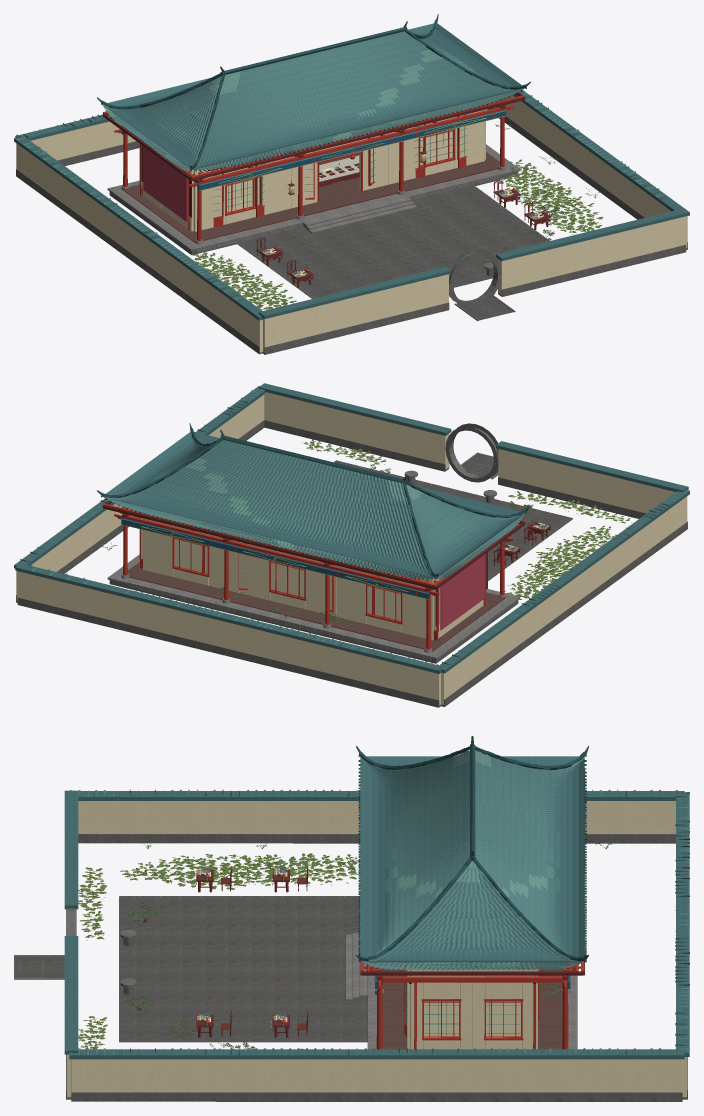
File: reference-public_models_places-low_qiushuangzhai.glb
3 renders of one model, top to bottom at view 1: azimuth 30°, elevation 25°; view 2: azimuth 150°, elevation 25°; view 3: azimuth 270°, elevation 25°, orthographic. The views are drawn at different scales.
Parts seen in each view (by area): view 1: r15_qiushuangzhai_tile, r15_qiushuangzhai_plaster, r15_qiushuangzhai_roof, Mobile_qiushuangzhai_paving, r15_qiushuangzhai_stone, r15_qiushuangzhai_plaster.002, r15_qiushuangzhai_wood, r15_qiushuangzhai_cutstone, Mobile_qiushuangzhai_floorwood, Mobile_qiushuangzhai_botanical_bamboo, r15_qiushuangzhai_darkwood, r15_qiushuangzhai_tiledark (+11 smaller); view 2: r15_qiushuangzhai_plaster, r15_qiushuangzhai_tile, r15_qiushuangzhai_roof, r15_qiushuangzhai_stone, r15_qiushuangzhai_plaster.002, r15_qiushuangzhai_wood, r15_qiushuangzhai_cutstone, Mobile_qiushuangzhai_floorwood, Mobile_qiushuangzhai_botanical_bamboo, Mobile_qiushuangzhai_paving, r15_qiushuangzhai_tiledark, r15_qiushuangzhai_darkwood (+7 smaller); view 3: Mobile_qiushuangzhai_paving, r15_qiushuangzhai_roof, r15_qiushuangzhai_tile, r15_qiushuangzhai_plaster, r15_qiushuangzhai_stone, r15_qiushuangzhai_plaster.002, Mobile_qiushuangzhai_botanical_bamboo, r15_qiushuangzhai_wood, r15_qiushuangzhai_tiledark, Mobile_qiushuangzhai_floorwood, r15_qiushuangzhai_cutstone, Mobile_qiushuangzhai_courtbase (+6 smaller).
Boxes of the visible parts, x1,y1,x2,y2 form: r15_qiushuangzhai_tile: (16,28,681,316); r15_qiushuangzhai_plaster: (16,95,687,352); r15_qiushuangzhai_roof: (14,23,689,320); Mobile_qiushuangzhai_paving: (237,185,548,320); r15_qiushuangzhai_stone: (16,107,687,354); r15_qiushuangzhai_plaster.002: (142,104,485,231); r15_qiushuangzhai_wood: (103,95,545,271); r15_qiushuangzhai_cutstone: (107,144,520,252); Mobile_qiushuangzhai_floorwood: (122,152,499,241); Mobile_qiushuangzhai_botanical_bamboo: (193,159,603,310); r15_qiushuangzhai_darkwood: (102,92,549,283); r15_qiushuangzhai_tiledark: (97,14,530,171); r15_qiushuangzhai_plaster: (16,392,687,705); r15_qiushuangzhai_tile: (20,386,689,670); r15_qiushuangzhai_roof: (14,383,689,673); r15_qiushuangzhai_stone: (16,420,687,707); r15_qiushuangzhai_plaster.002: (143,514,483,640); r15_qiushuangzhai_wood: (103,503,533,649); r15_qiushuangzhai_cutstone: (107,554,520,660); Mobile_qiushuangzhai_floorwood: (128,562,505,650); Mobile_qiushuangzhai_botanical_bamboo: (304,439,630,599); Mobile_qiushuangzhai_paving: (334,453,572,579); r15_qiushuangzhai_tiledark: (97,423,530,579); r15_qiushuangzhai_darkwood: (102,500,550,651); Mobile_qiushuangzhai_paving: (14,896,367,1041); r15_qiushuangzhai_roof: (64,756,689,1059); r15_qiushuangzhai_tile: (70,753,689,1054); r15_qiushuangzhai_plaster: (66,801,687,1097); r15_qiushuangzhai_stone: (14,834,687,1101); r15_qiushuangzhai_plaster.002: (407,962,537,1049); Mobile_qiushuangzhai_botanical_bamboo: (78,853,359,1049); r15_qiushuangzhai_wood: (205,873,584,1049); r15_qiushuangzhai_tiledark: (356,736,588,962); Mobile_qiushuangzhai_floorwood: (382,964,562,1049); r15_qiushuangzhai_cutstone: (345,932,577,1049); Mobile_qiushuangzhai_courtbase: (119,897,367,1041).
Size of the model in its own units: 32.76 by 10.51 by 35.38.
30 materials, 17 textured.
